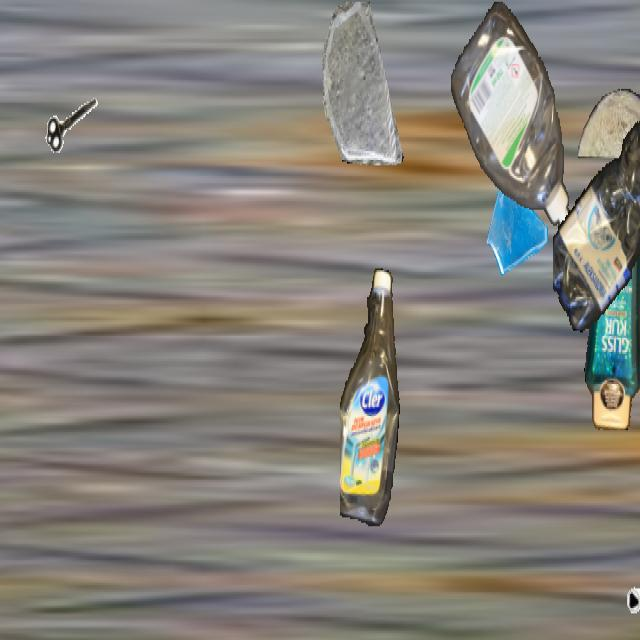glass: (317, 2, 409, 165), (485, 167, 551, 285)
metal: (43, 74, 101, 178), (589, 516, 640, 622)
plastic: (451, 2, 571, 233), (553, 89, 640, 338), (340, 268, 400, 524), (580, 176, 640, 428)
wood: (578, 89, 640, 156)
